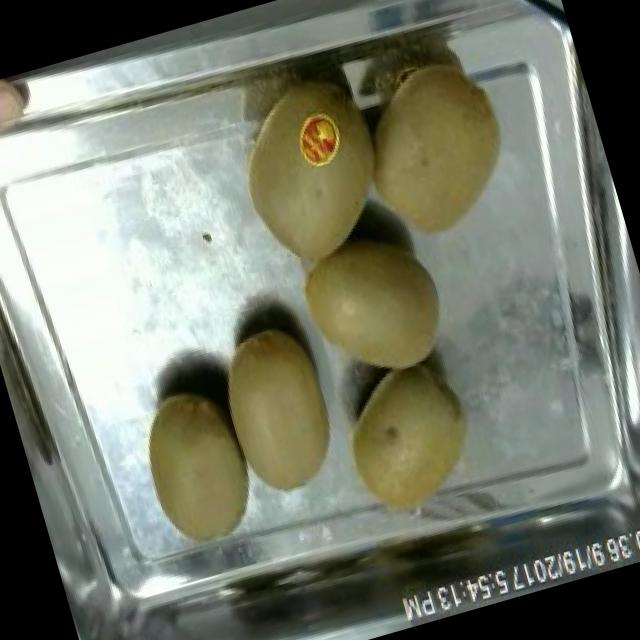Fruit: (322, 32, 538, 266), (213, 68, 393, 284), (278, 210, 467, 402), (317, 343, 498, 533), (208, 305, 360, 511), (118, 372, 266, 563), (0, 71, 48, 179)
